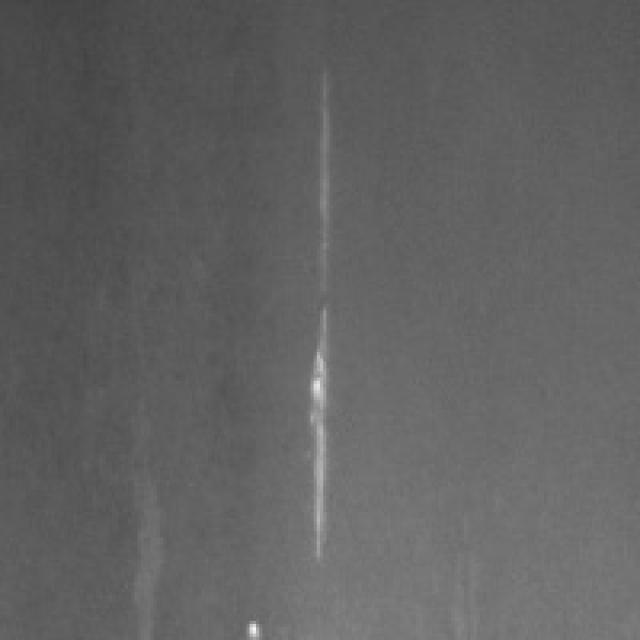scratches: (291, 74, 336, 560)
